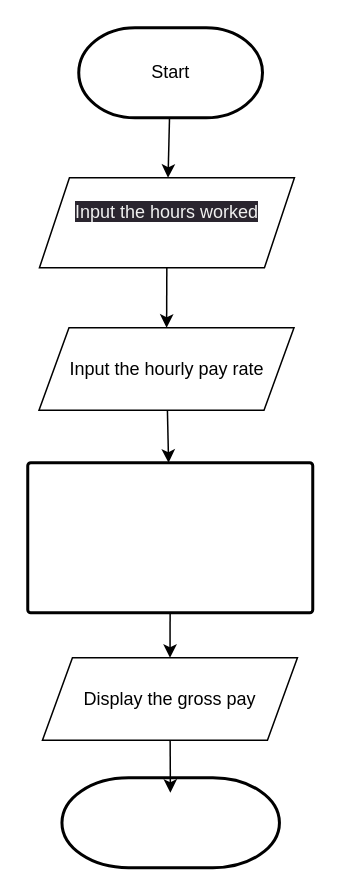
This 339x894 diagram has some shape labels left out. The centre of each missing label's shape, as x and y in pixels:
Calculate gross pay as hours worked multipied by pay rate: point (170, 537)
End: point (170, 822)
